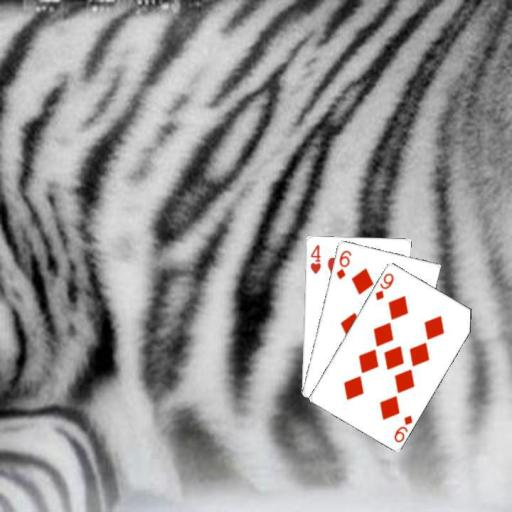4H: (307, 242, 322, 275)
6D: (333, 247, 353, 280)
9D: (390, 412, 414, 444), (372, 270, 395, 302)
